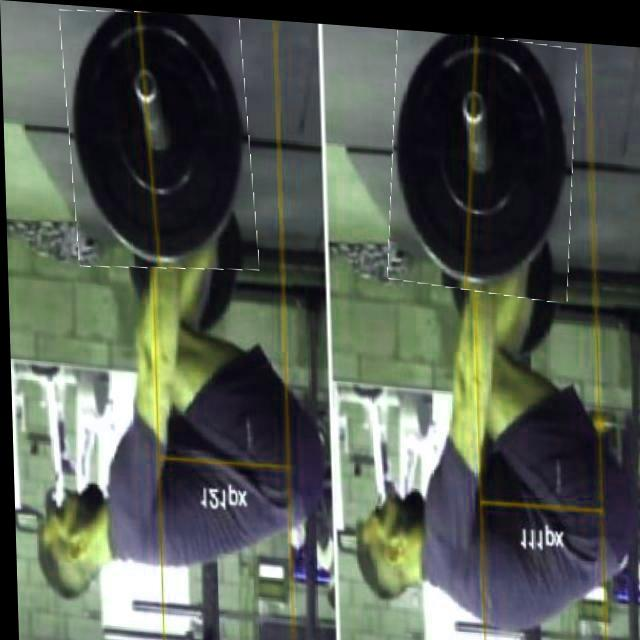barbell: (385, 22, 579, 292), (63, 5, 255, 273)
